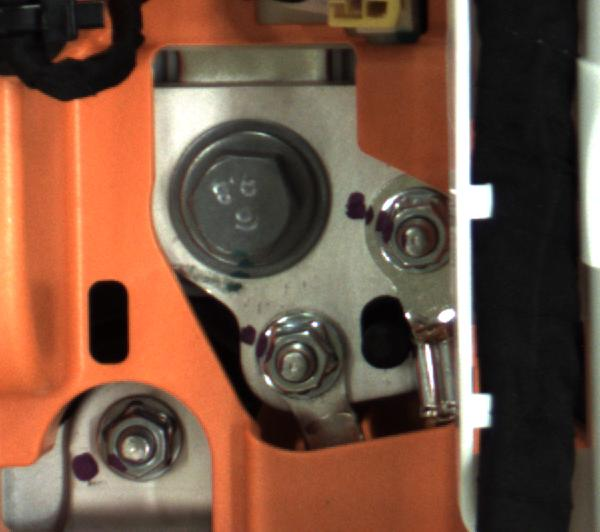nut_b: (155, 119, 335, 278)
screw_s: (253, 311, 354, 400), (92, 394, 191, 478), (375, 186, 459, 280)
